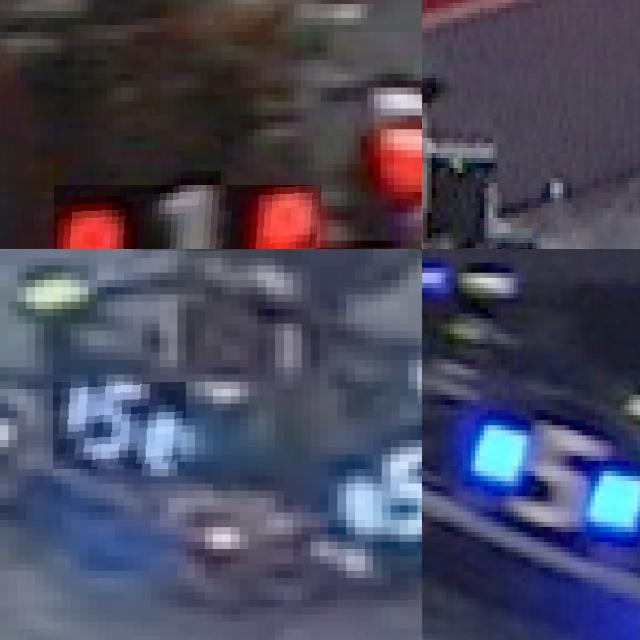B5: (450, 405, 637, 547), (53, 382, 186, 469), (328, 447, 422, 527)
R1: (54, 184, 320, 249)
